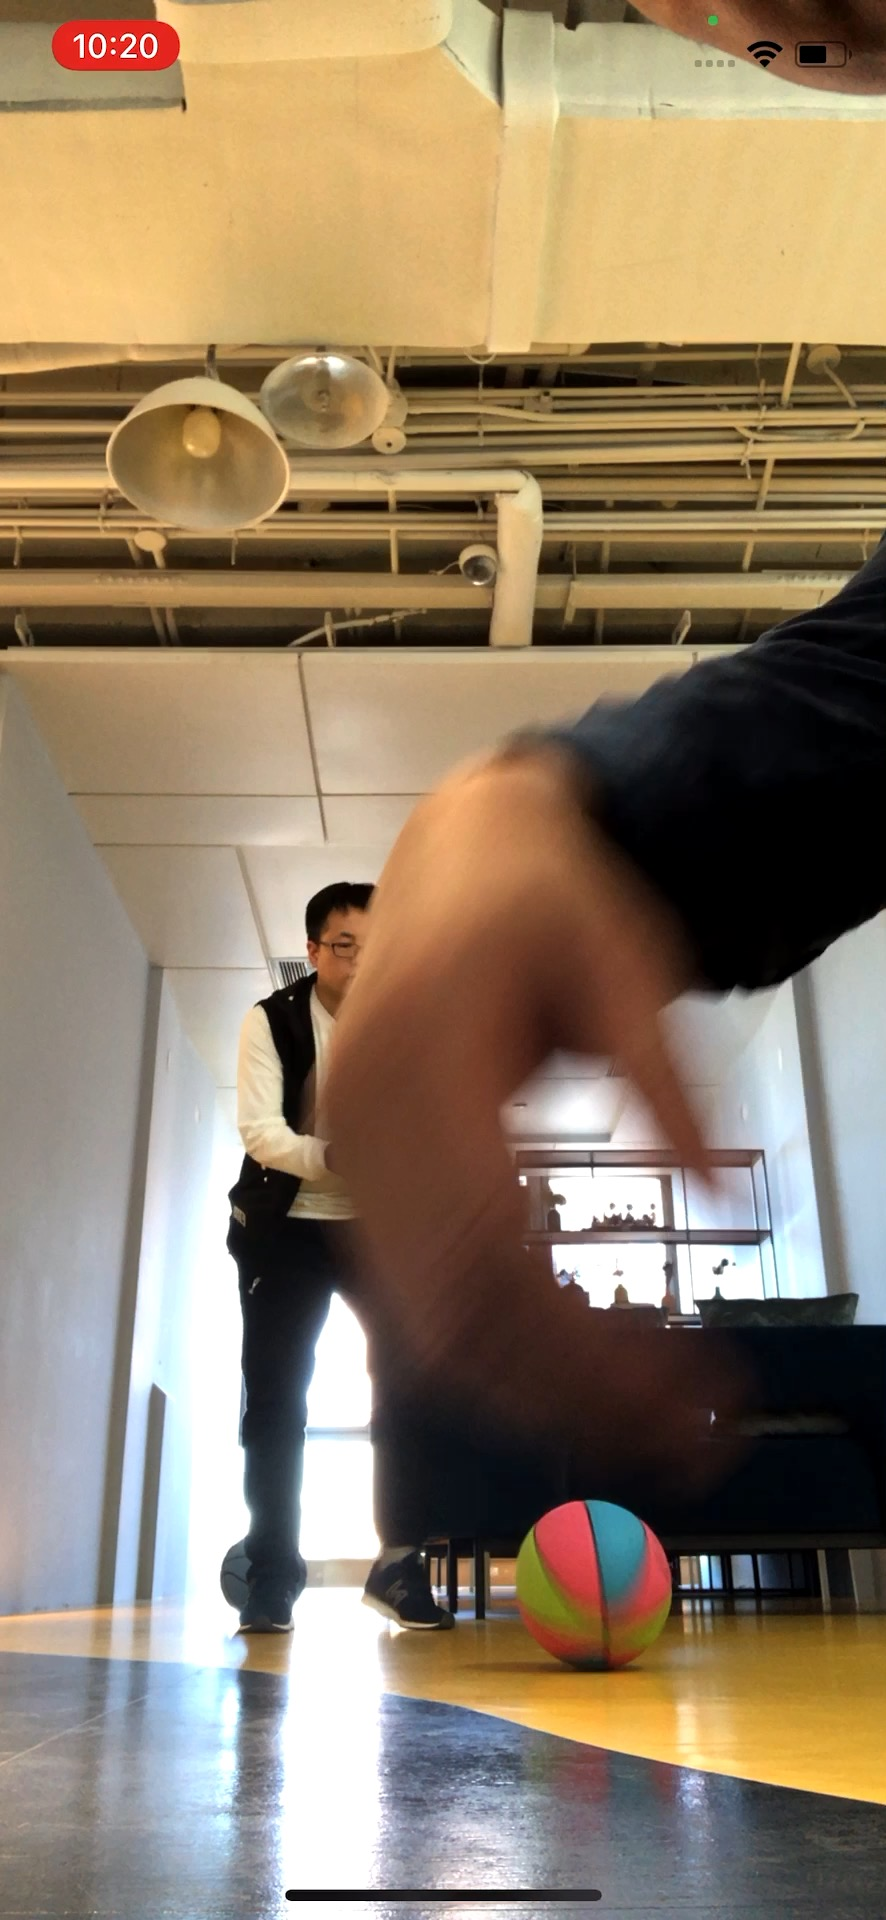ball: (514, 1500, 676, 1668)
